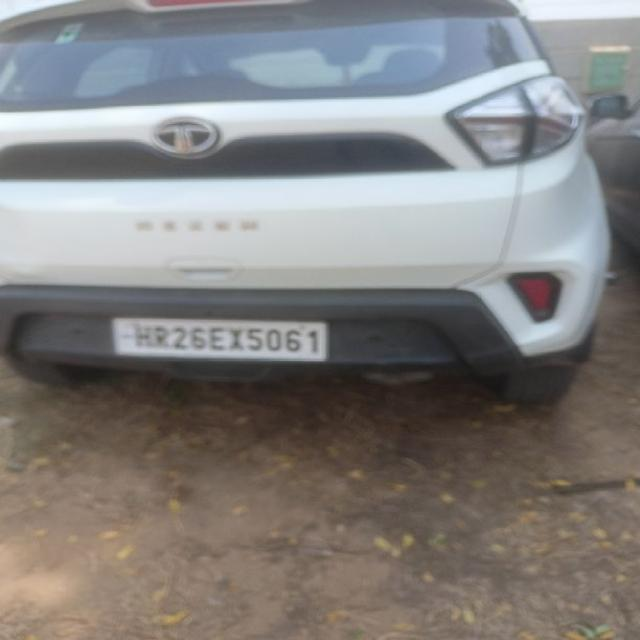license_plate: (109, 316, 329, 362)
